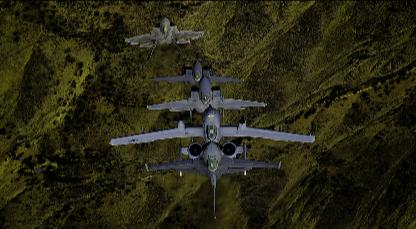A10: (110, 104, 316, 178)
F117: (146, 75, 268, 141), (150, 60, 245, 99)
F14: (144, 141, 282, 219)
F18: (126, 18, 204, 58)
